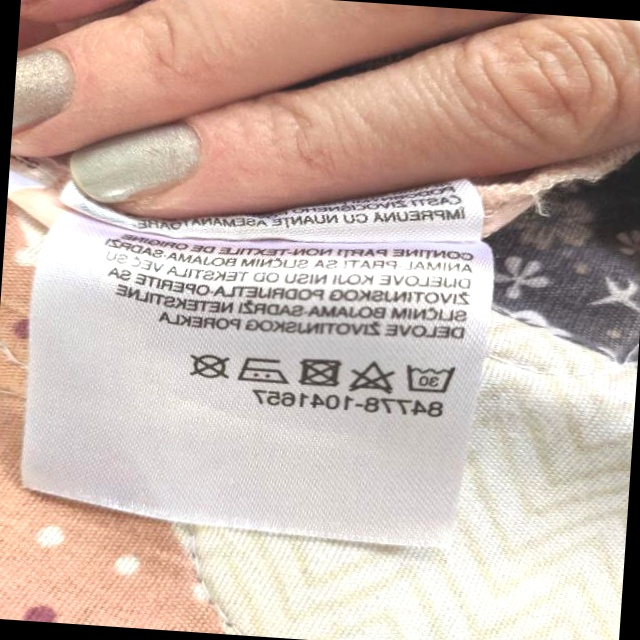30C: (399, 358, 458, 397)
DN_bleach: (349, 356, 396, 397)
DN_dry_clean: (186, 351, 232, 382)
DN_tumble_dry: (295, 355, 345, 393)
iron_medium: (234, 351, 290, 386)
